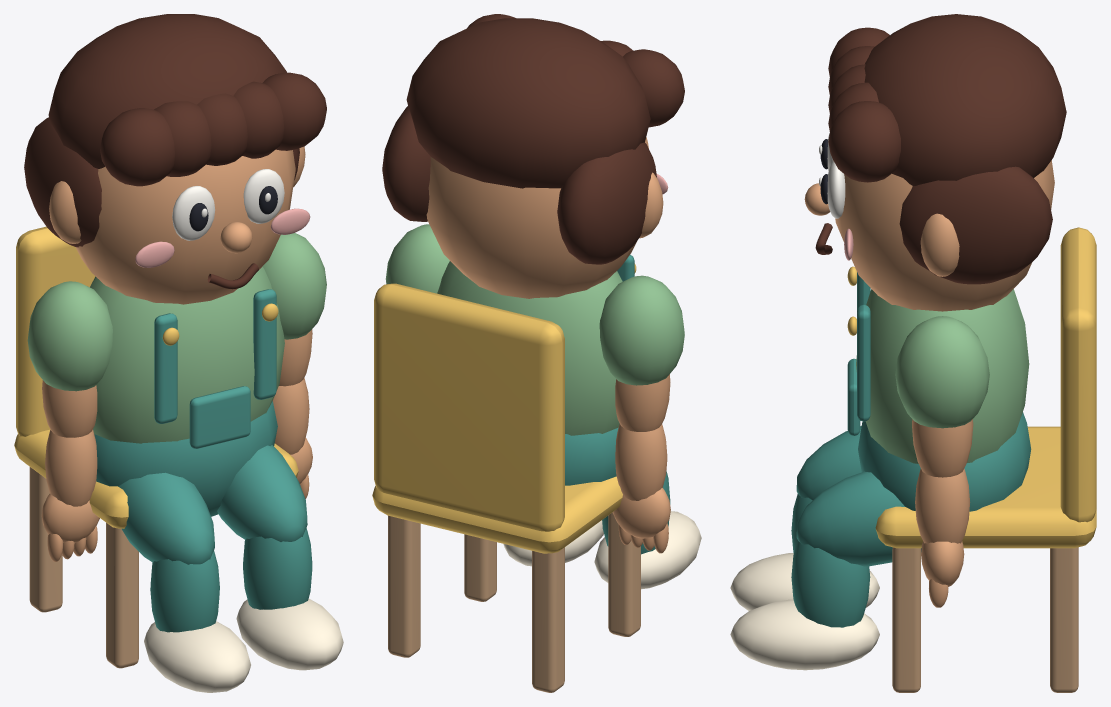
Rendered from daddy-stand.glb.
The picture shows the model from 3 angles, left to right: view 1: azimuth 30°, elevation 25°; view 2: azimuth 150°, elevation 25°; view 3: azimuth 270°, elevation 25°; orthographic projection. The views are drawn at different scales.
Parts seen in each view (by area): view 1: hair cap, soft shirt, clay head, shirt sleeve, overalls, trouser leg, chair back, trouser leg.001, little shoe.001, little shoe, bob hair, fringe (+26 smaller); view 2: chair back, hair cap, clay head, soft shirt, bob hair, shirt sleeve, chair seat, chair leg.001, chair leg.003, bob hair.001, forearm, chair leg (+9 smaller); view 3: hair cap, soft shirt, bob hair.001, clay head, chair back, chair seat, shirt sleeve.001, little shoe.001, trouser leg.001, overalls, lower leg.001, fringe.004 (+15 smaller).
Boxes of the visible parts, x1,y1,x2,y2 form: hair cap: (48, 14, 286, 168); soft shirt: (90, 266, 284, 443); clay head: (75, 149, 295, 304); shirt sleeve: (27, 281, 112, 391); overalls: (94, 401, 277, 516); trouser leg: (118, 472, 214, 564); chair back: (16, 226, 95, 436); trouser leg.001: (217, 445, 307, 541); little shoe.001: (236, 599, 343, 670); little shoe: (144, 621, 250, 692); bob hair: (24, 117, 101, 247); fringe: (100, 108, 174, 186); chair back: (374, 283, 564, 531); hair cap: (406, 18, 650, 188); clay head: (426, 137, 648, 298); soft shirt: (437, 261, 622, 435); bob hair: (557, 142, 656, 264); shirt sleeve: (599, 275, 684, 385); chair seat: (372, 476, 622, 553); chair leg.001: (532, 547, 564, 692); chair leg.003: (388, 515, 420, 657); bob hair.001: (382, 106, 430, 221); forearm: (615, 424, 667, 500); chair leg: (608, 512, 640, 636); hair cap: (864, 14, 1066, 185); soft shirt: (856, 289, 1029, 463); bob hair.001: (899, 166, 1052, 284); clay head: (833, 160, 1054, 311); chair back: (1060, 227, 1096, 522); chair seat: (875, 426, 1096, 548); shirt sleeve.001: (895, 316, 989, 428); little shoe.001: (730, 599, 879, 670); trouser leg.001: (796, 471, 921, 566); overalls: (858, 412, 1031, 511); lower leg.001: (791, 540, 870, 627); fringe.004: (828, 101, 900, 182).
Bounding box in the file's own units: 0.957 × 1.92 × 1.02.
